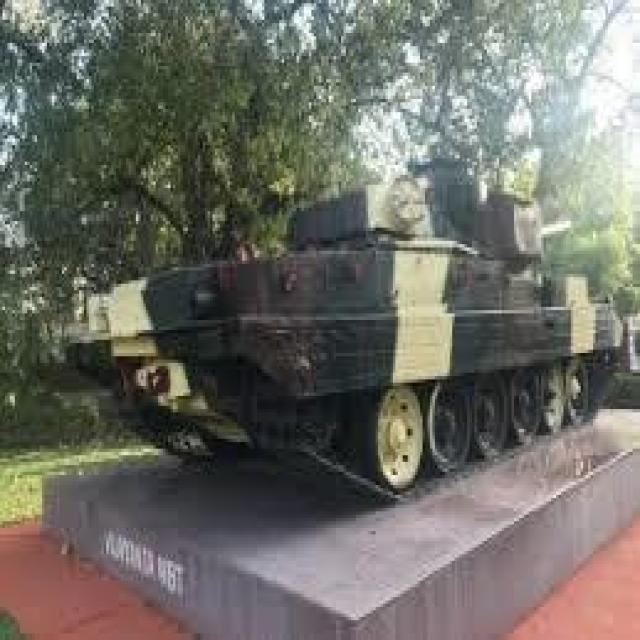Tanks: (95, 117, 567, 582)
